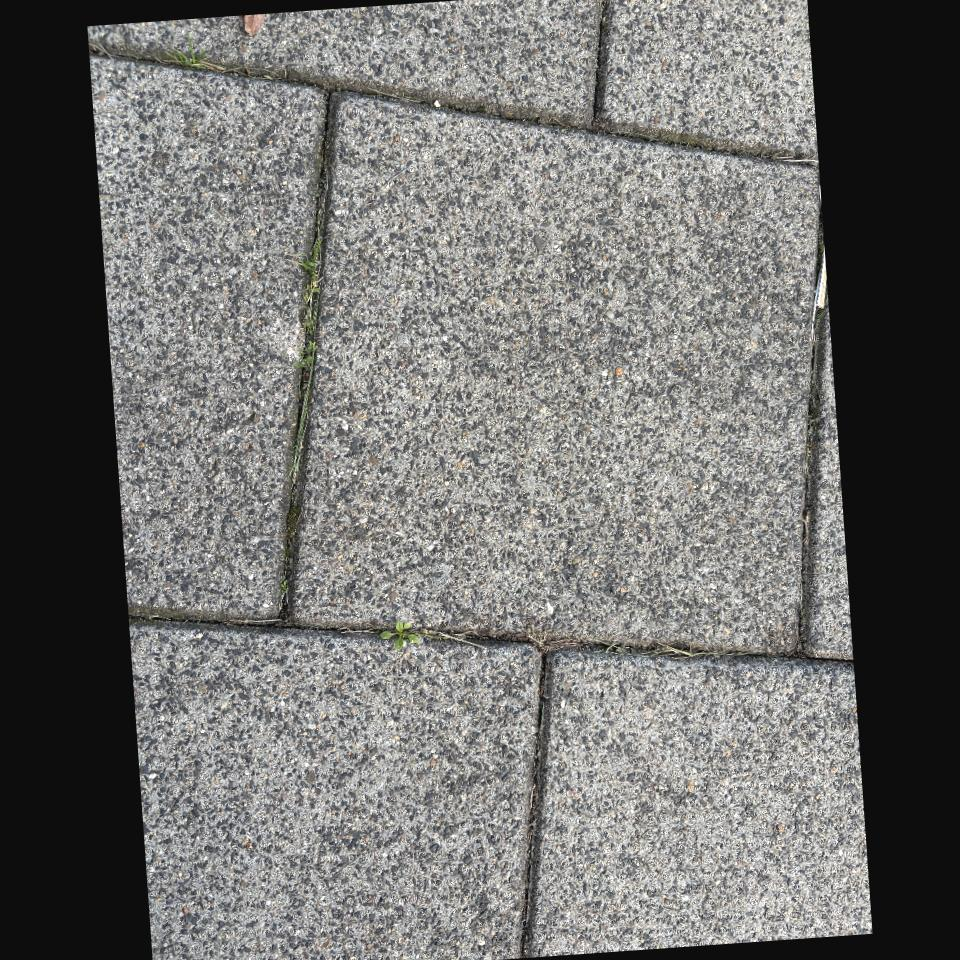weed: (396, 621, 419, 650), (293, 356, 314, 371), (380, 631, 393, 639), (316, 188, 322, 197)
